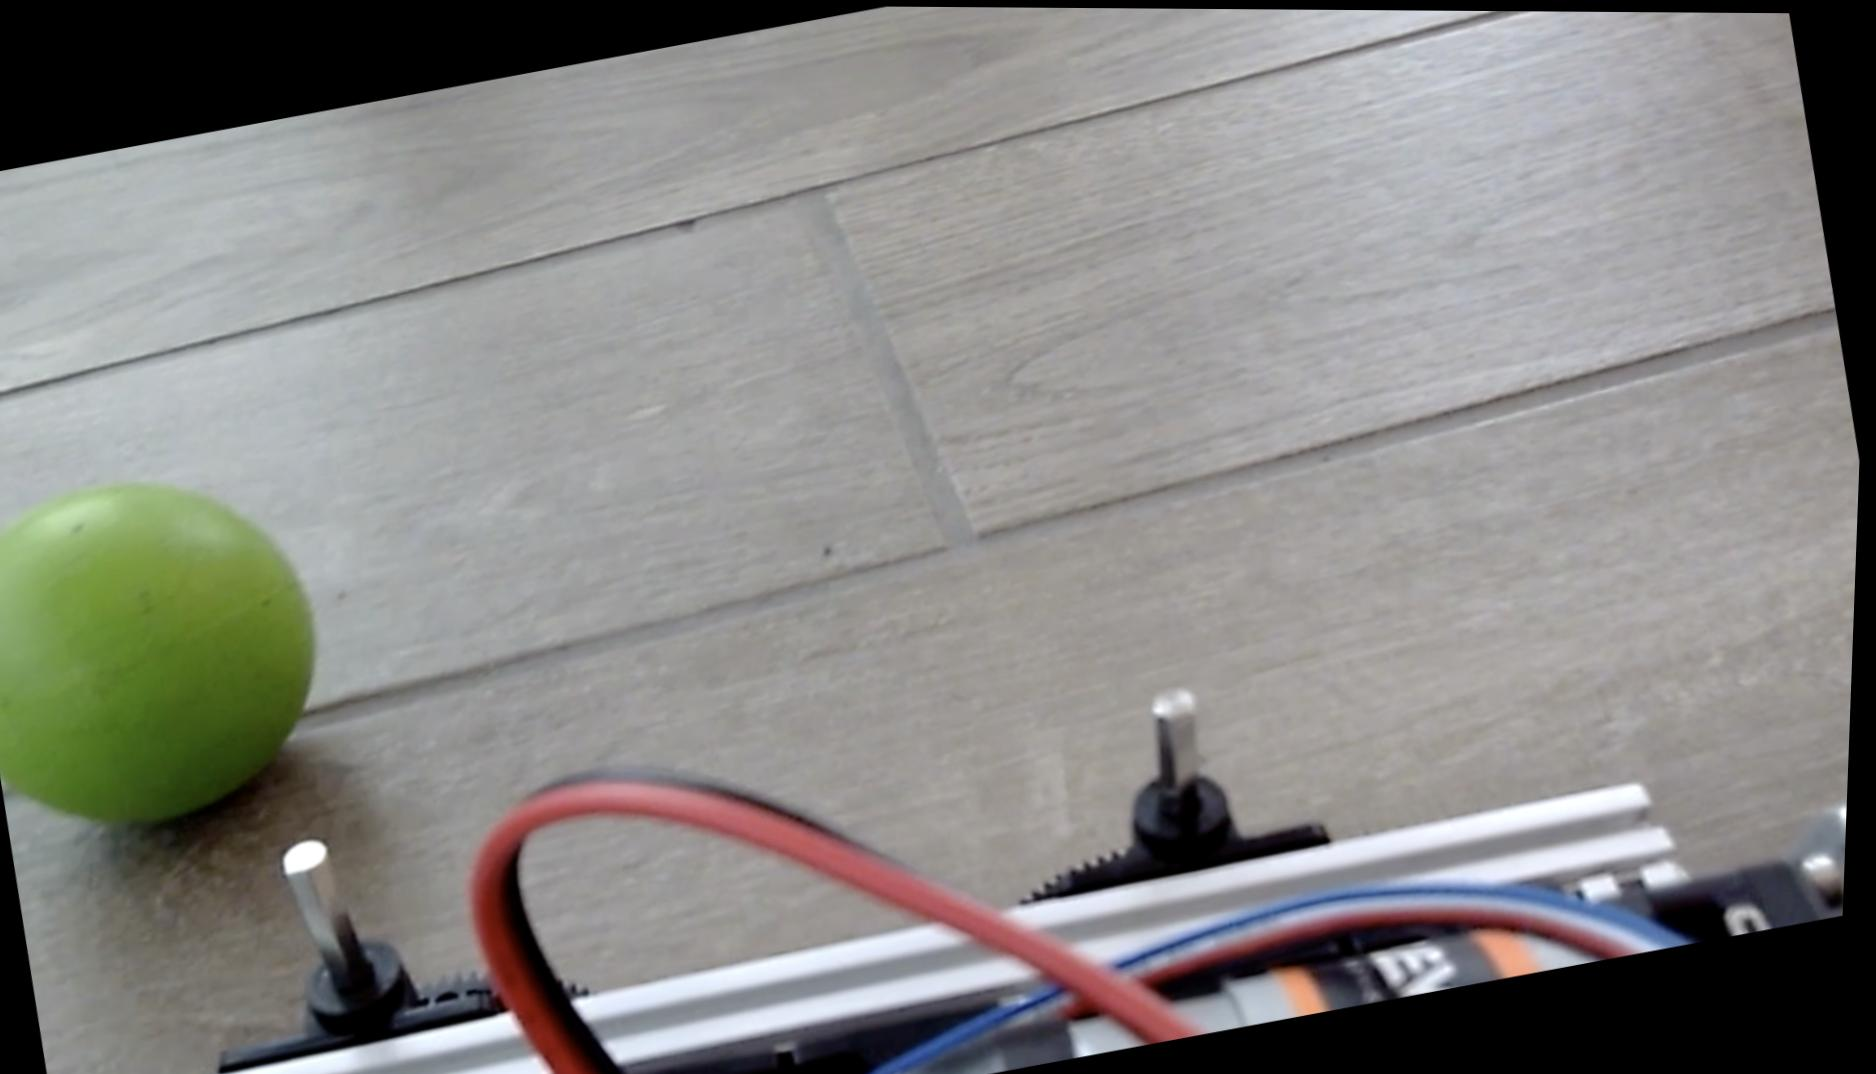greenball: (0, 442, 359, 853)
